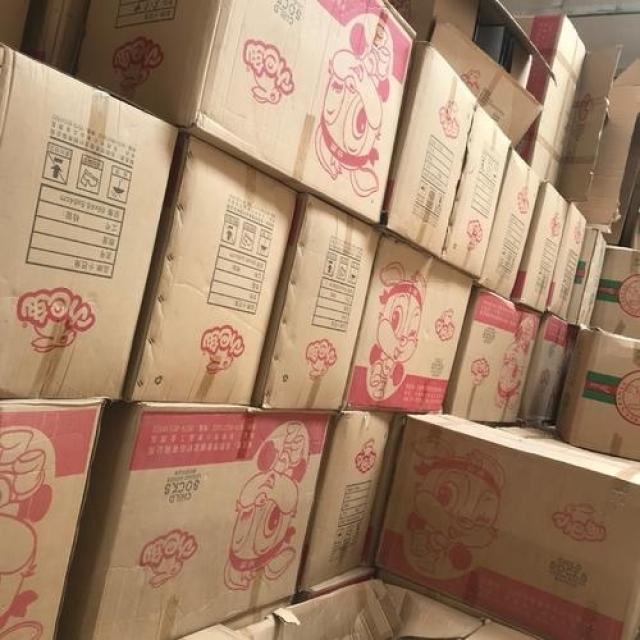box: (73, 0, 419, 227), (56, 402, 334, 639), (0, 40, 179, 401), (375, 412, 640, 639), (120, 125, 301, 406), (251, 192, 383, 412), (512, 15, 640, 236), (0, 398, 109, 639), (340, 229, 475, 415), (387, 1, 558, 147), (379, 41, 479, 260), (236, 577, 540, 640), (294, 413, 394, 594), (442, 282, 543, 424), (439, 100, 512, 280), (554, 325, 640, 461), (481, 145, 541, 301), (509, 179, 571, 314), (362, 415, 408, 566), (520, 315, 579, 425), (20, 0, 91, 77), (545, 201, 589, 320), (590, 246, 640, 340), (567, 227, 609, 328), (294, 564, 378, 603), (499, 422, 571, 448), (0, 0, 31, 52), (179, 623, 237, 639)
